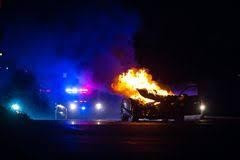fire: (111, 66, 173, 106)
